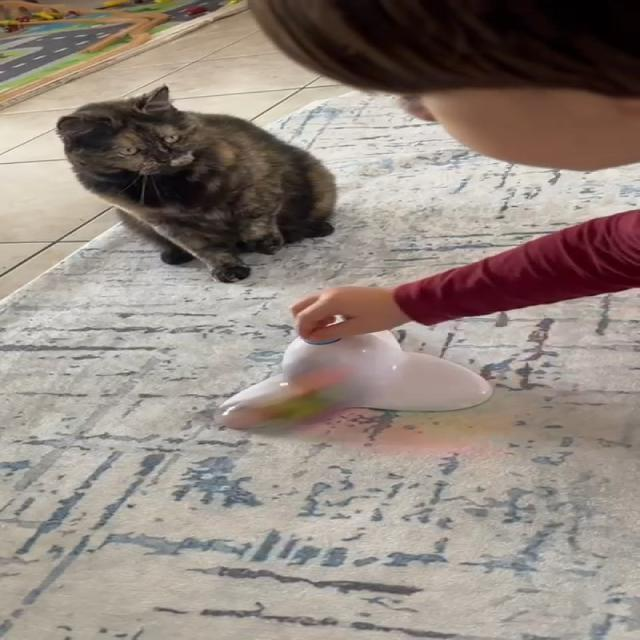authorized: (55, 83, 337, 283)
